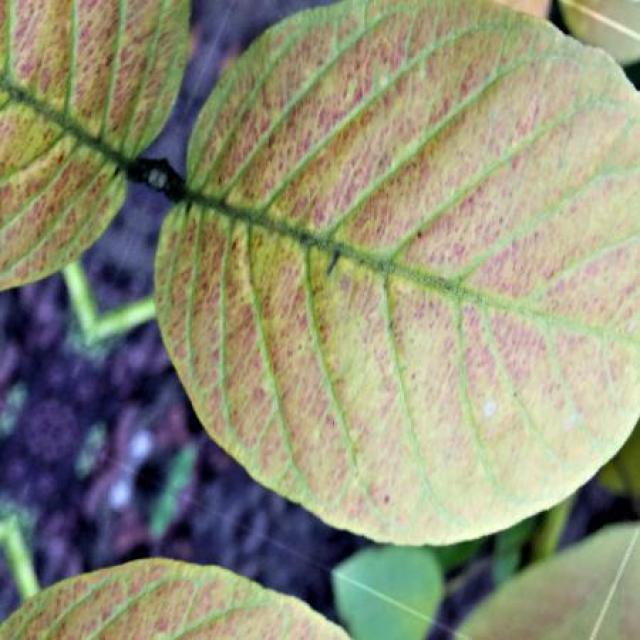Red Rust: (159, 0, 640, 544), (0, 0, 188, 288)
